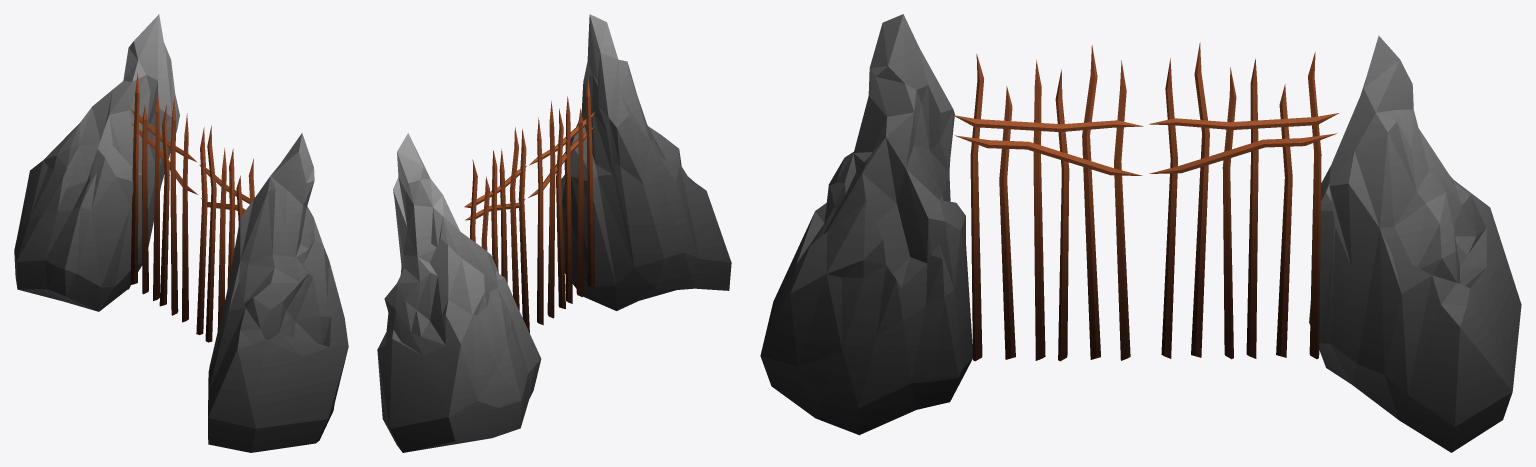
The model's file is diyu_mumen.fbx.
3 views of the same model, side by side, from view 1: azimuth 30°, elevation 25°; view 2: azimuth 150°, elevation 25°; view 3: azimuth 270°, elevation 25° (orthographic). The views are drawn at different scales.
Parts seen in each view (by area): view 1: SM_Env_Hell_Spikes_05, SM_Prop_Hell_Fence_02, SM_Prop_Hell_Fence_03; view 2: SM_Env_Hell_Spikes_05, SM_Prop_Hell_Fence_03, SM_Prop_Hell_Fence_02; view 3: SM_Env_Hell_Spikes_05, SM_Prop_Hell_Fence_03, SM_Prop_Hell_Fence_02.
Part boxes in pixels (left/top/right/bottom): SM_Env_Hell_Spikes_05: left=14, top=14, right=348, bottom=452; SM_Prop_Hell_Fence_02: left=130, top=73, right=197, bottom=322; SM_Prop_Hell_Fence_03: left=196, top=125, right=254, bottom=342; SM_Env_Hell_Spikes_05: left=377, top=14, right=731, bottom=452; SM_Prop_Hell_Fence_03: left=528, top=77, right=595, bottom=325; SM_Prop_Hell_Fence_02: left=464, top=127, right=529, bottom=333; SM_Env_Hell_Spikes_05: left=760, top=14, right=1521, bottom=452; SM_Prop_Hell_Fence_03: left=952, top=44, right=1143, bottom=361; SM_Prop_Hell_Fence_02: left=1148, top=42, right=1338, bottom=359.
Bounding box in the file's own units: 593 × 1130 × 1793.
